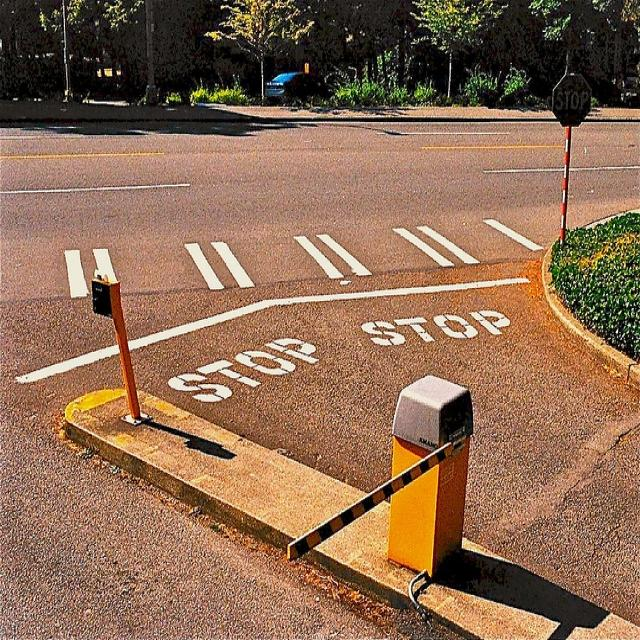car: (264, 70, 302, 99)
pole: (556, 126, 572, 243)
